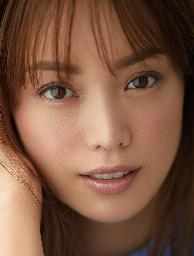face: (21, 0, 181, 222)
